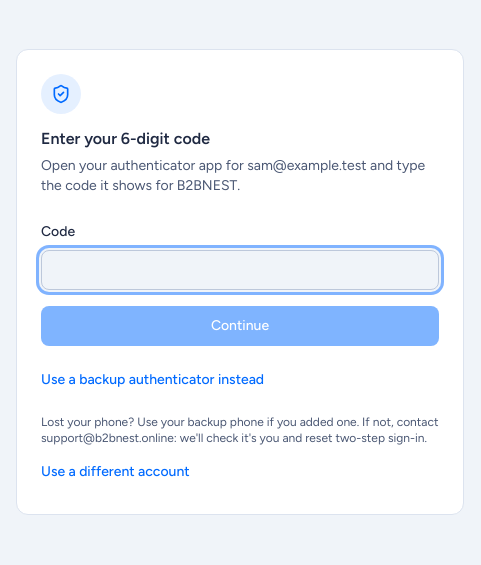
Scenario: TwoStepCodeScreen › three factors: the backup button offers the next one each time
This screenshot has width=481, height=565.
Click the button "Use a backup authenticator instead" at (153, 380), box [41,362,264,398]
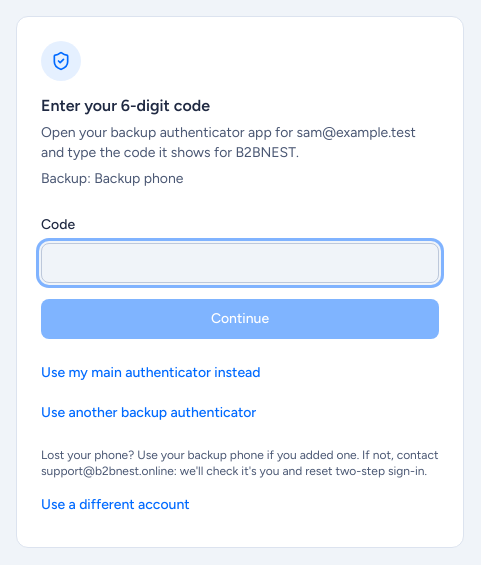
Result: the text with test id "two-step-factor-name" reads "Backup: Backup phone" at [41,170,183,187]
Click the button "Use another backup authenticator" at (149, 413), box [41,395,256,431]
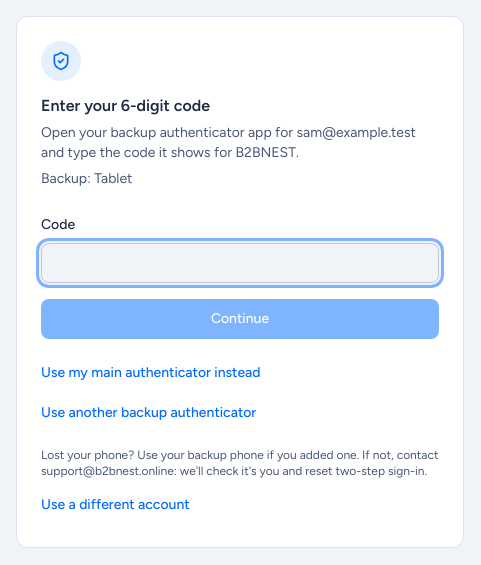
Result: the text with test id "two-step-factor-name" reads "Backup: Tablet" at [41,170,132,187]
Click the button "Use another backup authenticator" at (149, 413), box [41,395,256,431]
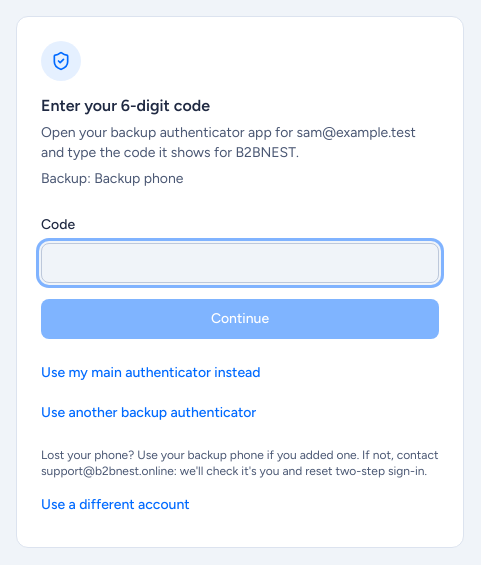
Result: the text with test id "two-step-factor-name" reads "Backup: Backup phone" at [41,170,183,187]
